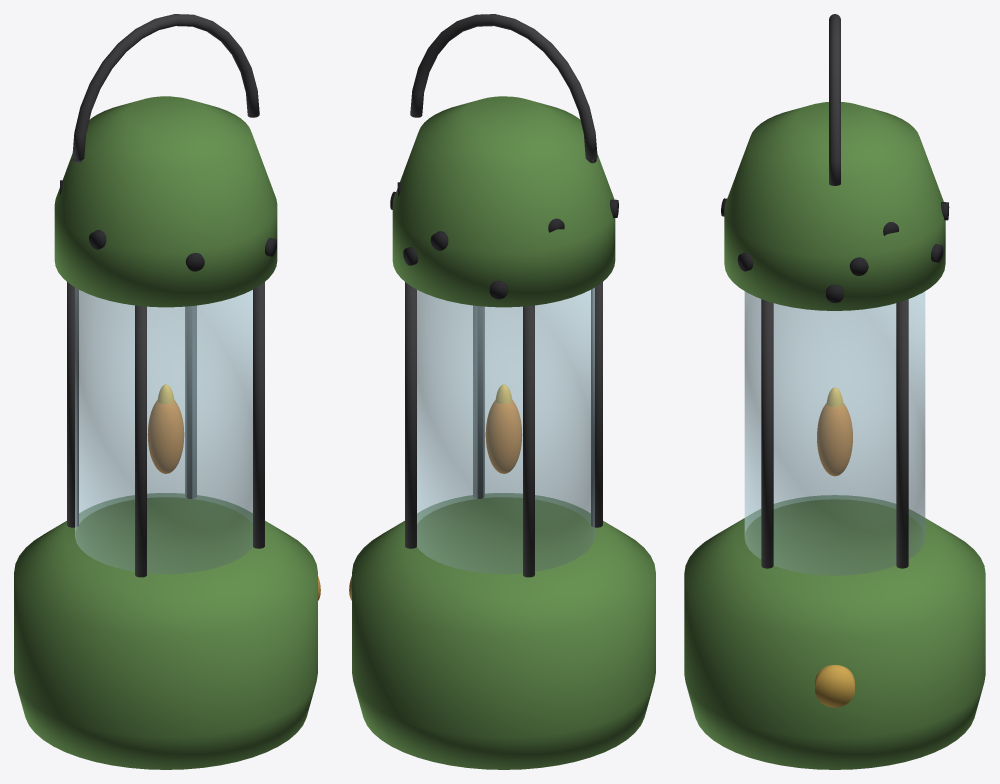
File: camping-lantern.glb
The picture shows the model from 3 angles, left to right: view 1: azimuth 30°, elevation 25°; view 2: azimuth 150°, elevation 25°; view 3: azimuth 270°, elevation 25°; orthographic projection.
Parts seen in each view (by area): view 1: part0, part1, part4, part2, part9; view 2: part0, part1, part4, part2, part9; view 3: part0, part1, part4, part2, part23, part9.
Boxes of the visible parts, x1,y1,x2,y2 form: part0: (14,96,317,769); part1: (75,287,252,573); part4: (67,14,264,577); part2: (147,400,184,473); part9: (60,180,276,271); part0: (352,96,655,769); part1: (417,287,594,573); part4: (405,14,602,577); part2: (485,400,522,473); part9: (390,182,618,299); part0: (684,102,985,769); part1: (744,291,925,575); part4: (761,14,908,568); part2: (817,403,852,476); part23: (815,665,854,707); part9: (721,198,949,302).
Size of the model in its own units: 0.4171 by 1 by 0.3972.
